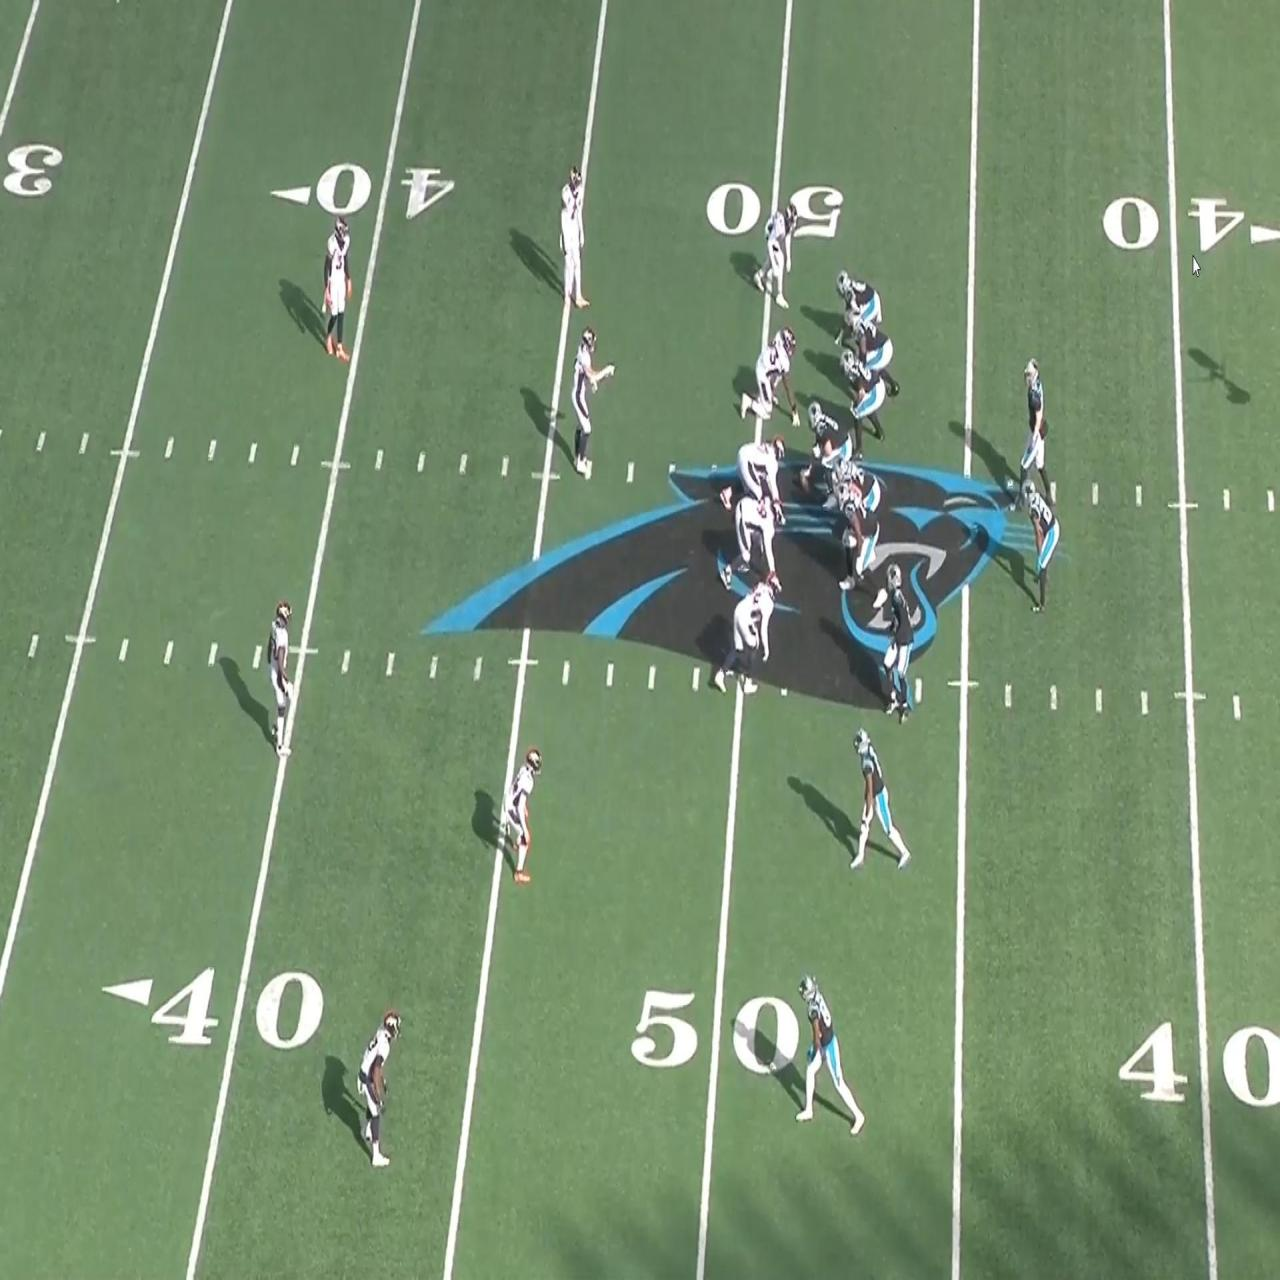30L: (0, 144, 64, 199)
40L: (101, 965, 325, 1046), (271, 161, 455, 219)
40R: (1117, 1022, 1280, 1109), (1102, 197, 1280, 252)
50: (632, 989, 799, 1076), (708, 182, 844, 240)
